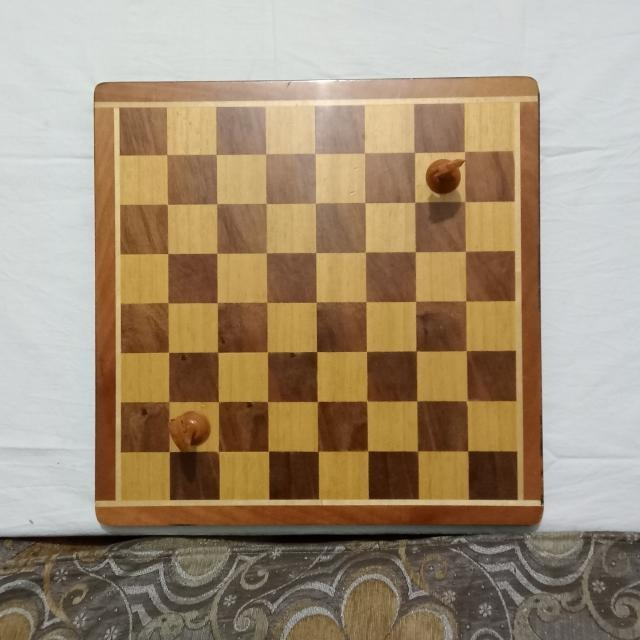white-knight: (425, 154, 467, 196), (169, 410, 211, 452)
